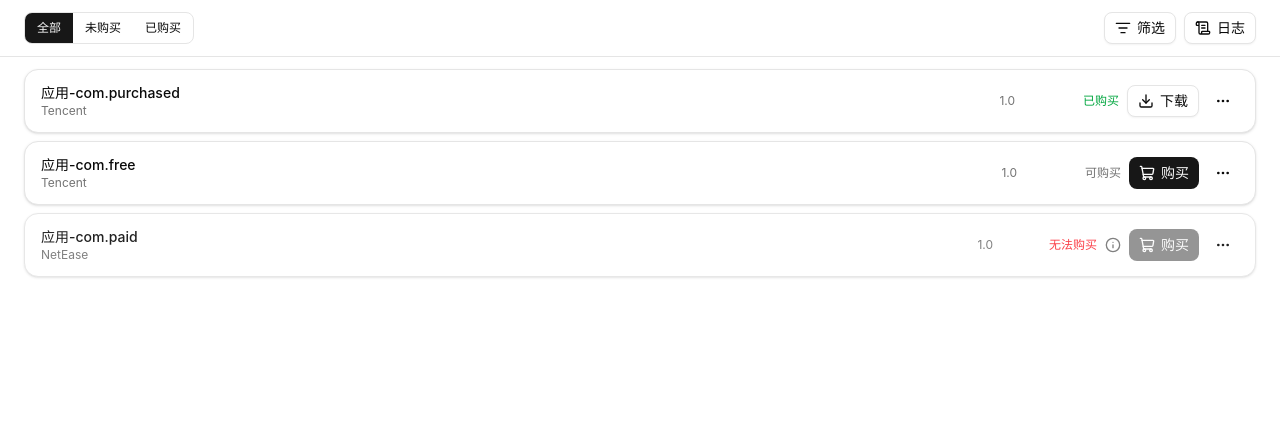
Test case: HomePage › paid app marked then unmarked returns to blocked, not purchasable
Expected: the text "应用-com.paid" is shown, x1=41 y1=228 x2=138 y2=245
Press the mouse on the button without text in the row of "无法购买" at [1223, 245], box x1=1207 y1=229 x2=1239 y2=261
Click the button without text in the row of "无法购买". click: [1223, 245]
box: x1=1207 y1=229 x2=1239 y2=261
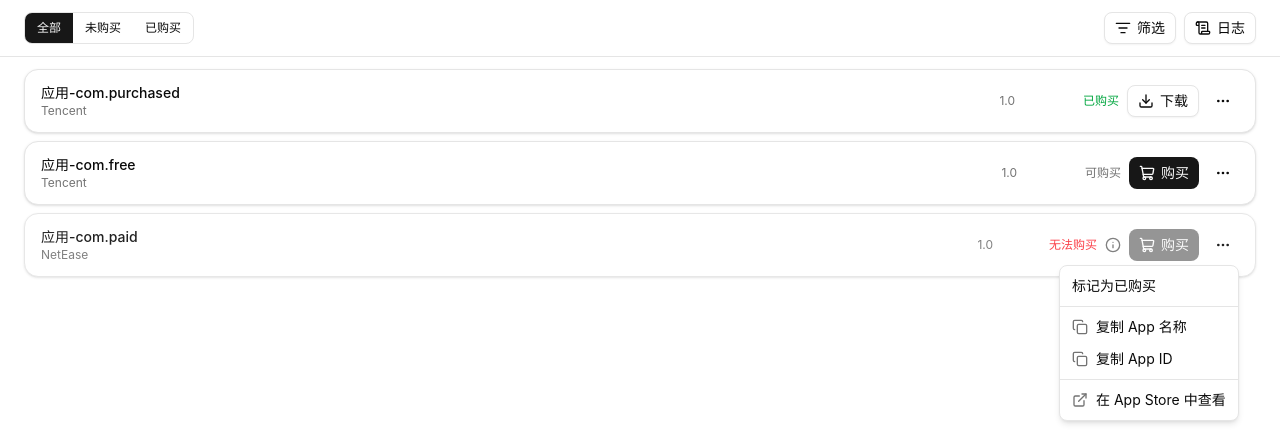
Click the menu item "标记为已购买". click: [1114, 286]
box: x1=1072 y1=277 x2=1156 y2=294
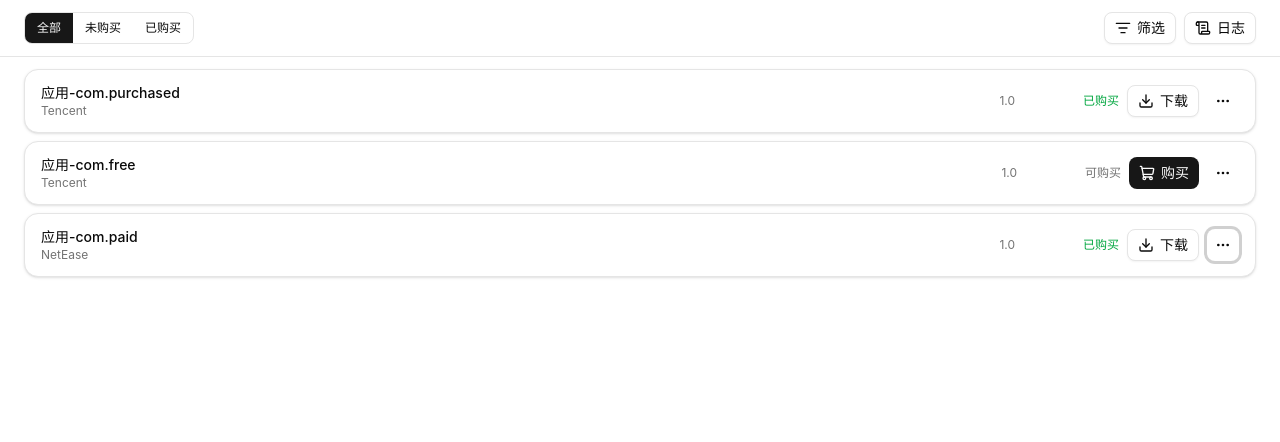
Expected: the text "应用-com.paid" shows "已购买", x1=1083 y1=237 x2=1119 y2=252
Press the mouse on the button without text in the row of "应用-com.paid" at [1223, 245], box x1=1207 y1=229 x2=1239 y2=261
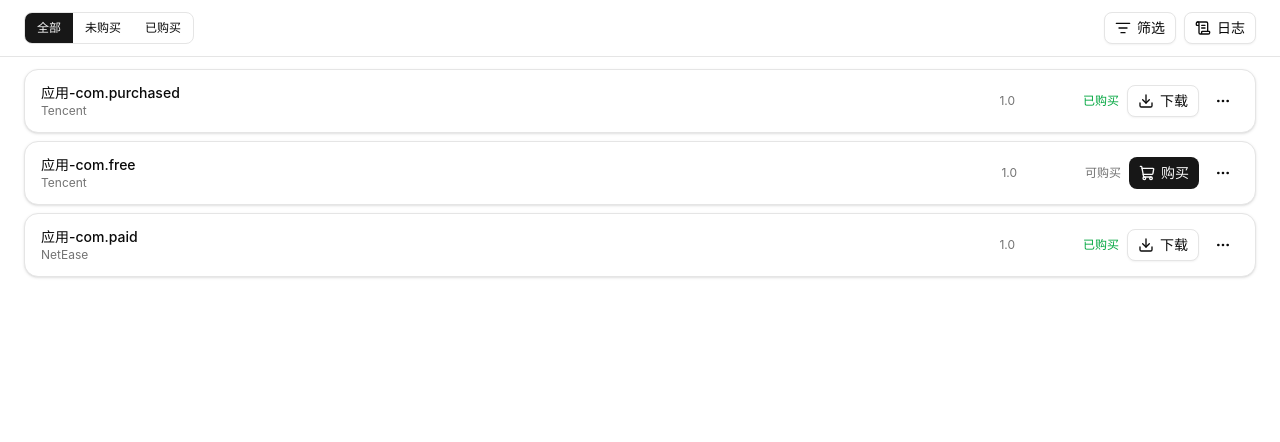
Click the button without text in the row of "应用-com.paid". click: [1223, 245]
box: x1=1207 y1=229 x2=1239 y2=261
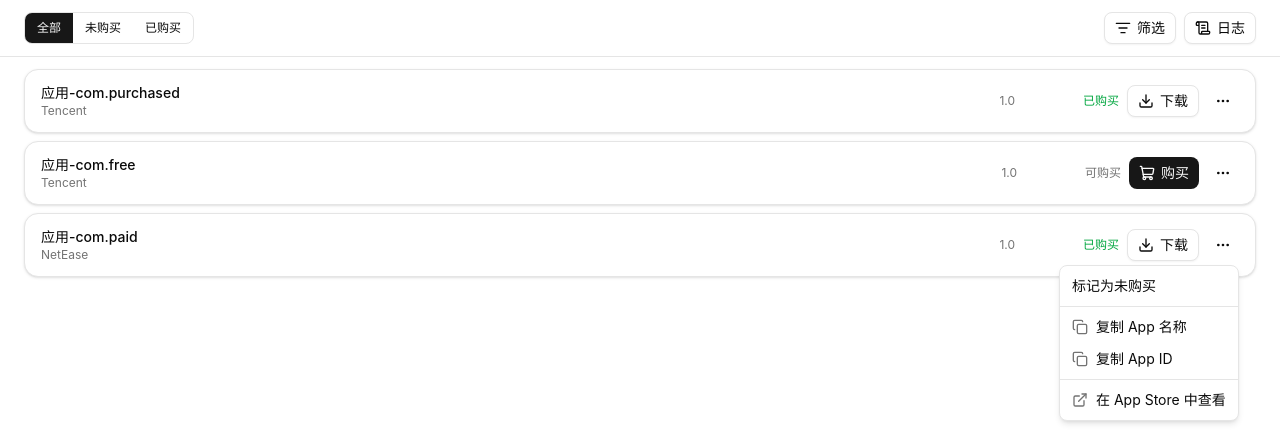
Click the menu item "标记为未购买". click: [1114, 286]
box: x1=1072 y1=277 x2=1156 y2=294
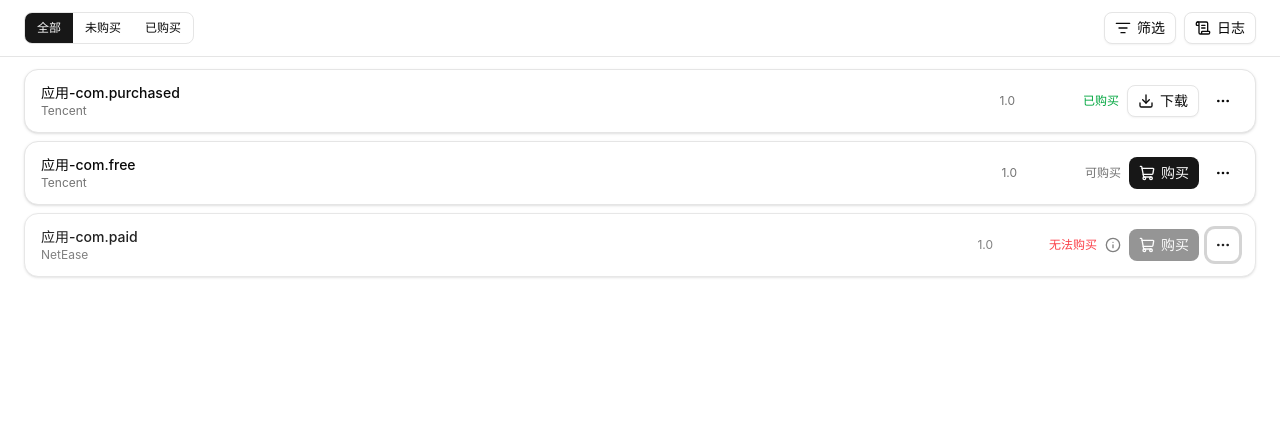
Expected: the text "应用-com.paid" shows "无法购买", x1=1049 y1=237 x2=1097 y2=252
Expected: the button "购买" next to "无法购买" is disabled, x1=1129 y1=229 x2=1199 y2=261
